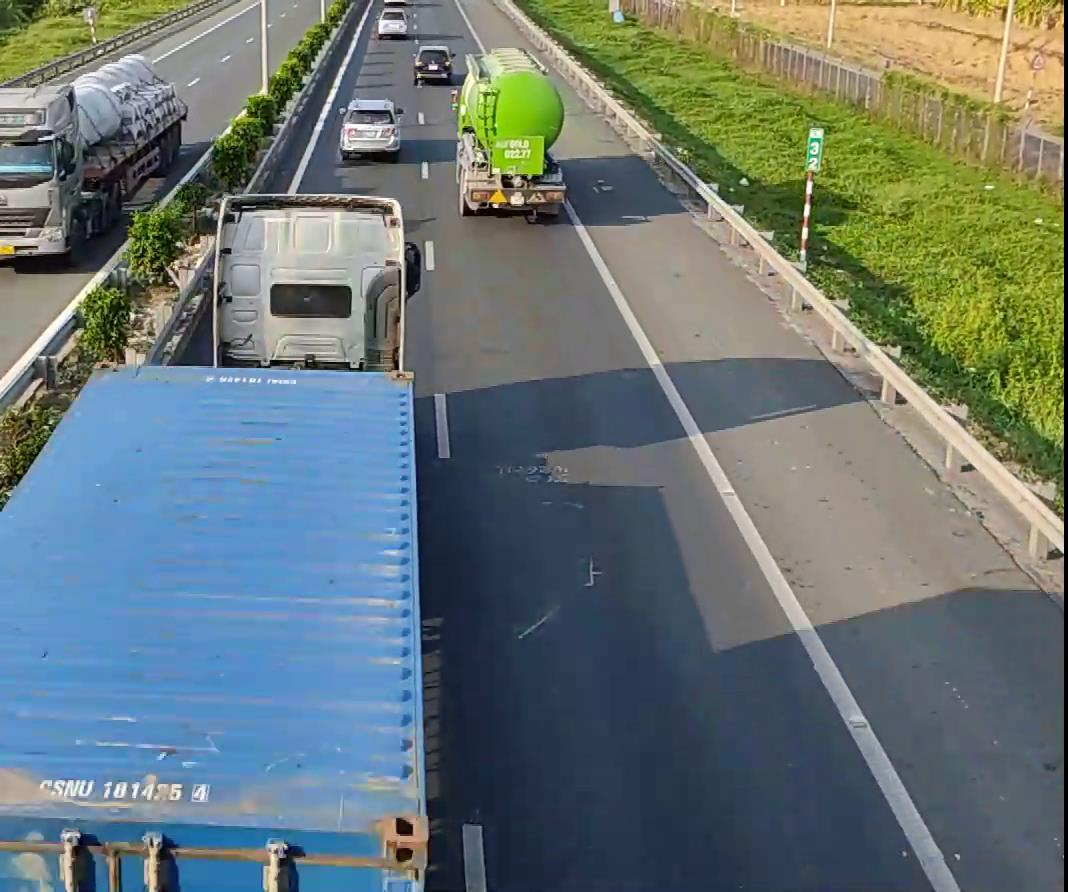container: (0, 189, 425, 888), (0, 56, 188, 260), (452, 47, 565, 220)
